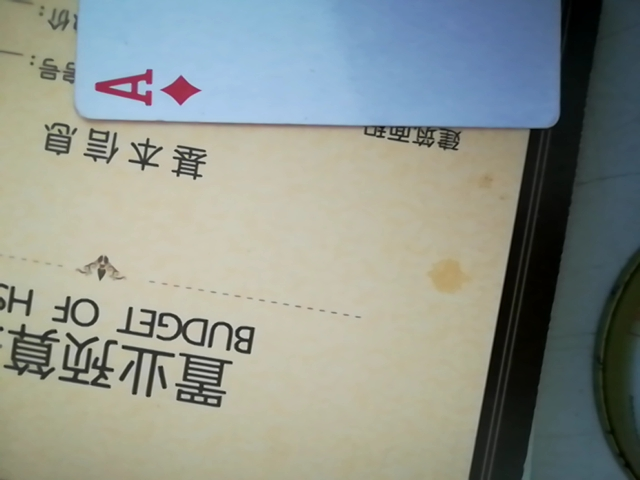fk a: (76, 0, 575, 129)
